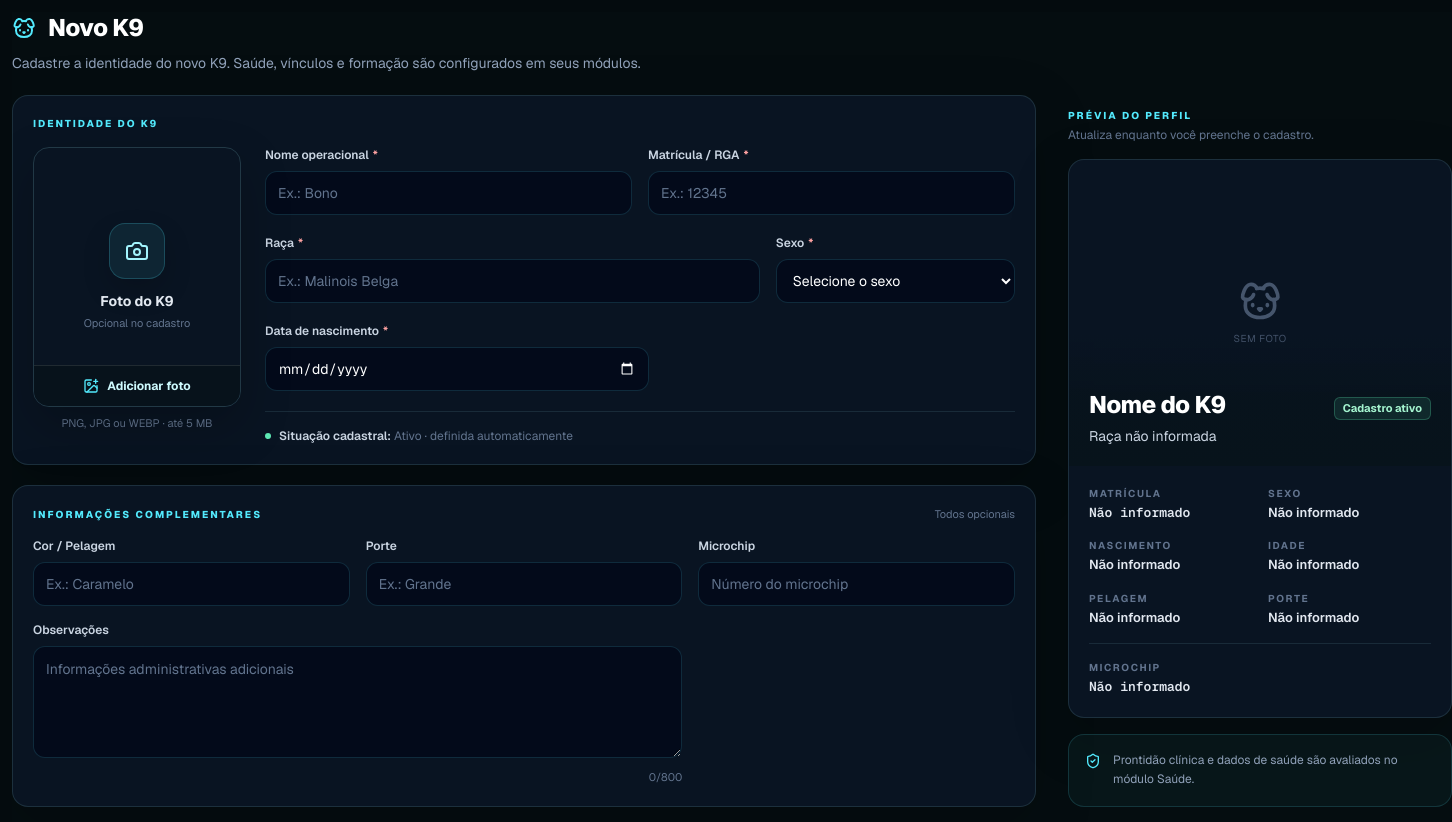
Test: K9 Create V1 › atualiza a prévia com nome, raça e matrícula e usa fallbacks vazios
Check: the heading "Nome do K9" is shown, box [1089,390,1226,420]
Check: the text "Raça não informada" is shown, box [1089,427,1216,445]
Step 1. Type "Bono" into the field labelled "Nome operacional*" → [448, 193], box [265,171,632,215]
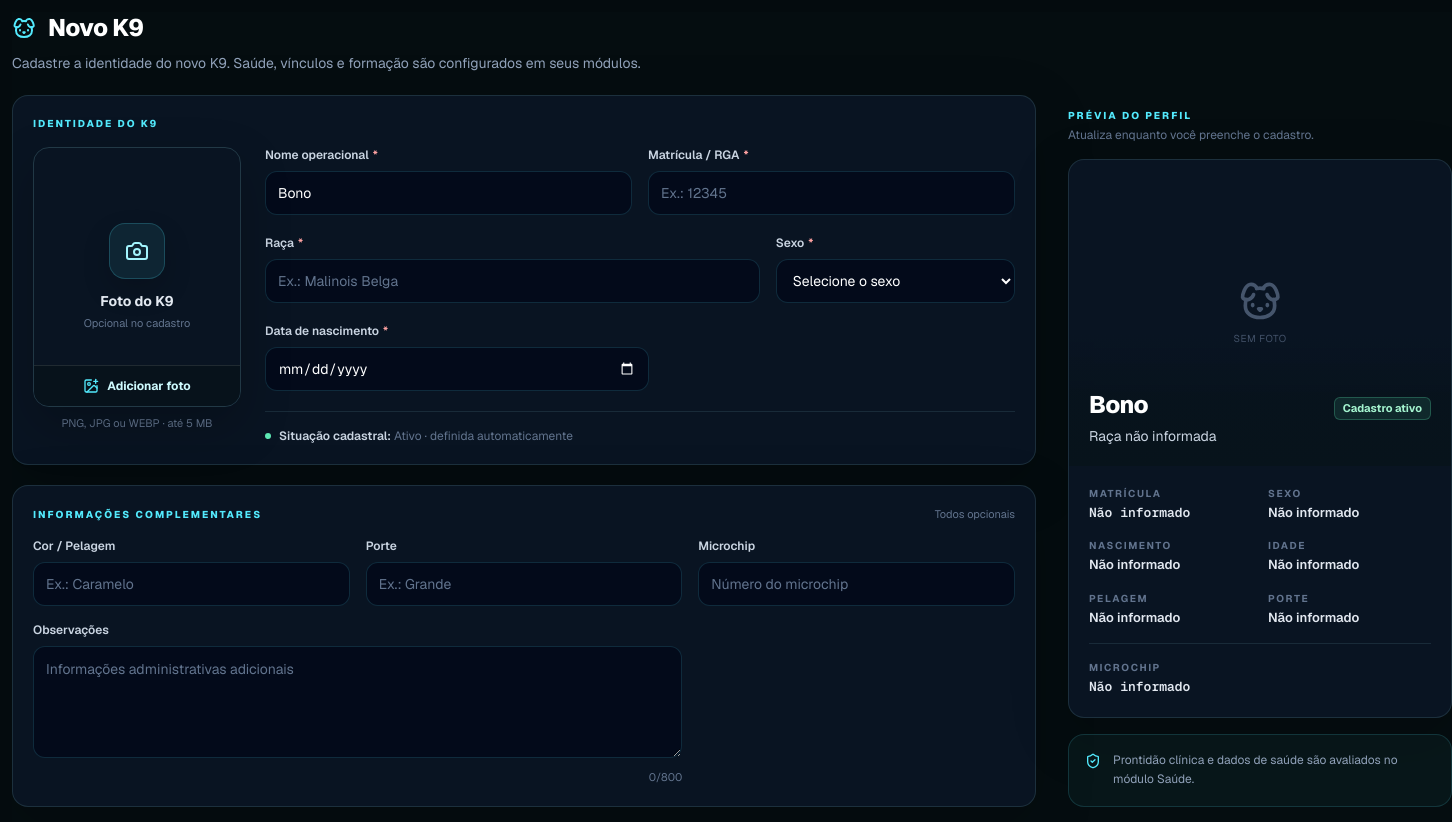
Step 2. Type "Labrador" into the field labelled "Raça*" → [512, 281], box [265,259,760,303]
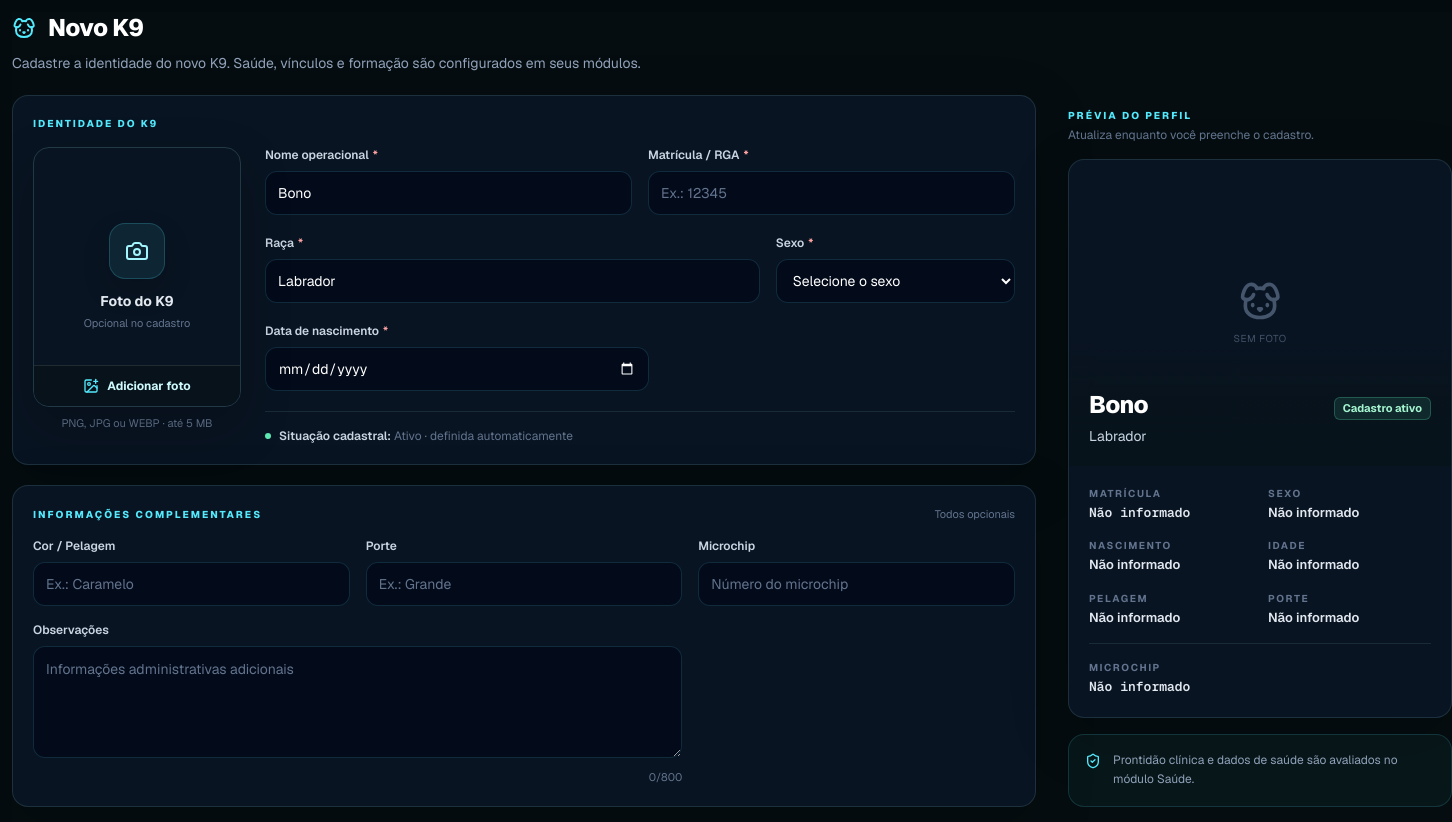
Step 3. Type "RGA-42" into the field labelled "Matrícula / RGA*" → [832, 193], box [648,171,1015,215]
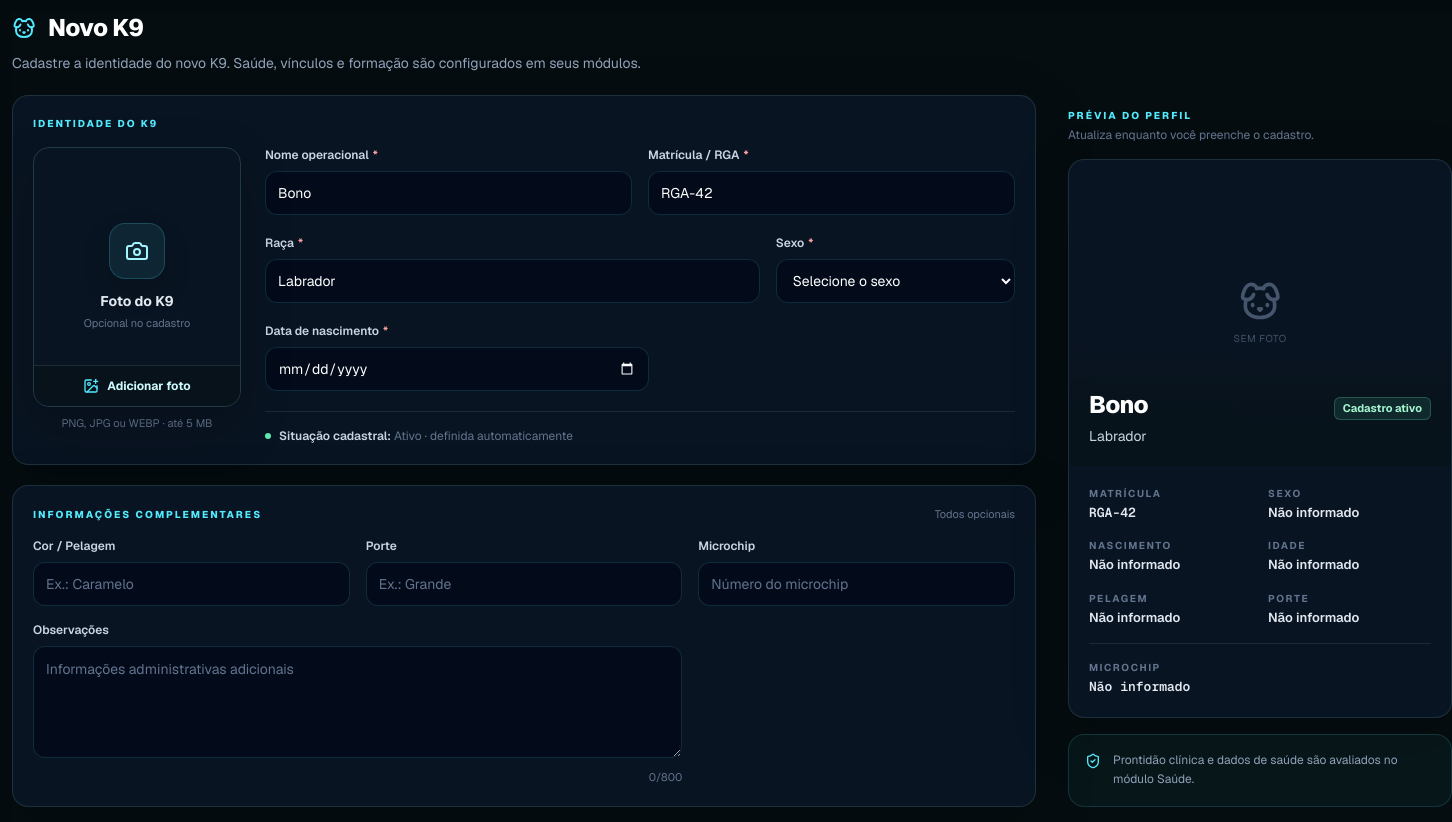
Check: the heading "Bono" is shown, box [1089,390,1148,420]
Check: the text "Labrador" is shown, box [1089,427,1147,445]
Check: the text "RGA-42" is shown, box [1089,504,1136,521]
